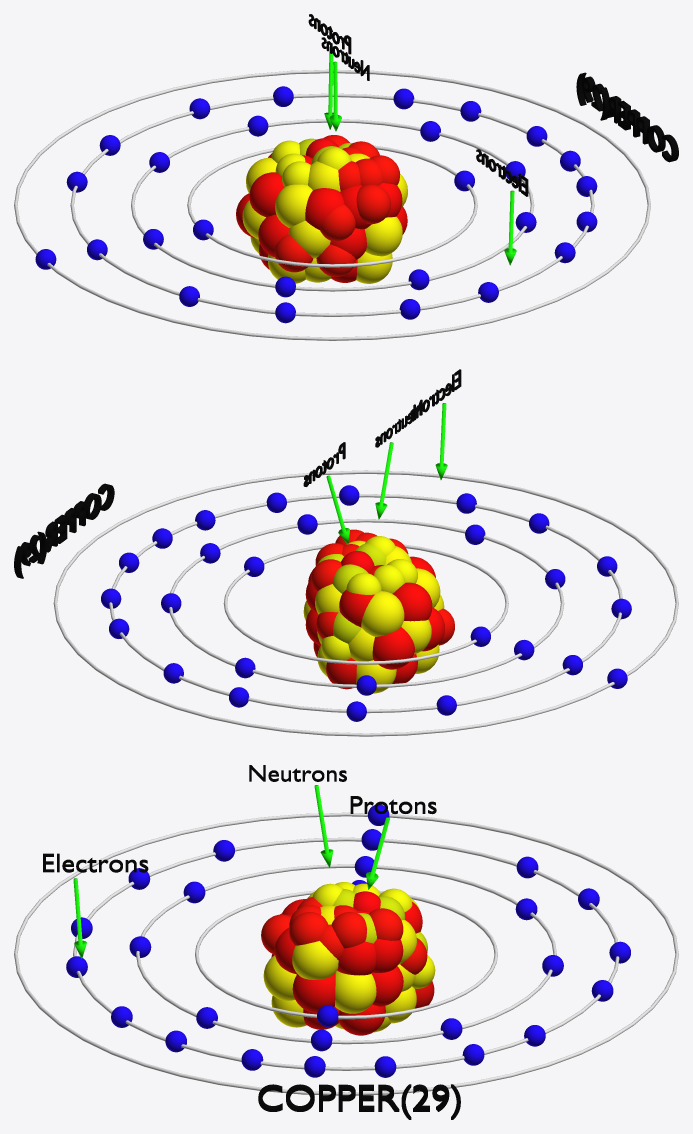
Rendered from Copper Atomic Model.gltf.
3 views of the same model, one above another, from view 1: azimuth 30°, elevation 25°; view 2: azimuth 150°, elevation 25°; view 3: azimuth 270°, elevation 25° (orthographic). The views are drawn at different scales.
Visible parts, largest first — view 1: Sphere.007, Torus.003, Torus.002, Torus.001, Text.003, Torus, Text, Text.001, Text.002; view 2: Sphere.007, Torus.003, Torus.002, Torus.001, Text.003, Torus; view 3: Sphere.007, Torus.003, Torus.002, Torus.001, Text.003, Torus, Text, Text.001, Text.002.
Boxes of the visible parts, x1,y1,x2,y2 form: Sphere.007: (236, 135, 407, 283); Torus.003: (14, 69, 650, 340); Torus.002: (70, 93, 594, 316); Torus.001: (131, 119, 534, 291); Text.003: (576, 72, 678, 162); Torus: (187, 145, 477, 267); Text: (476, 149, 528, 196); Text.001: (321, 37, 369, 80); Text.002: (308, 14, 351, 54); Sphere.007: (303, 529, 454, 693); Torus.003: (53, 470, 678, 736); Torus.002: (109, 494, 622, 713); Torus.001: (169, 519, 564, 687); Text.003: (14, 483, 114, 578); Torus: (223, 544, 508, 664); Sphere.007: (261, 882, 435, 1035); Torus.003: (14, 812, 678, 1095); Torus.002: (73, 837, 619, 1070); Torus.001: (136, 864, 556, 1044); Text.003: (258, 1084, 460, 1119); Torus: (195, 890, 497, 1019); Text: (43, 853, 148, 872); Text.001: (249, 765, 346, 781); Text.002: (350, 796, 436, 814).
Size of the model in its own units: 7.08 by 2.84 by 6.68.
